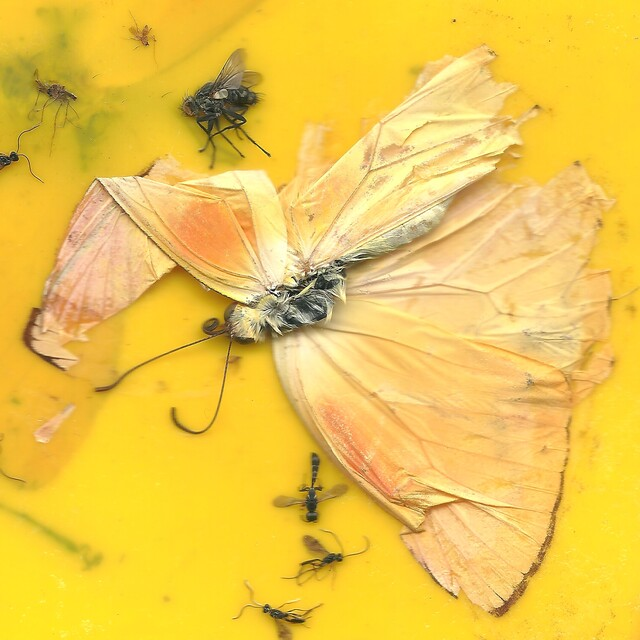Brachycera: (180, 47, 273, 169)
Lepidoptera: (24, 43, 616, 616)
Nematocera: (129, 24, 151, 48)
